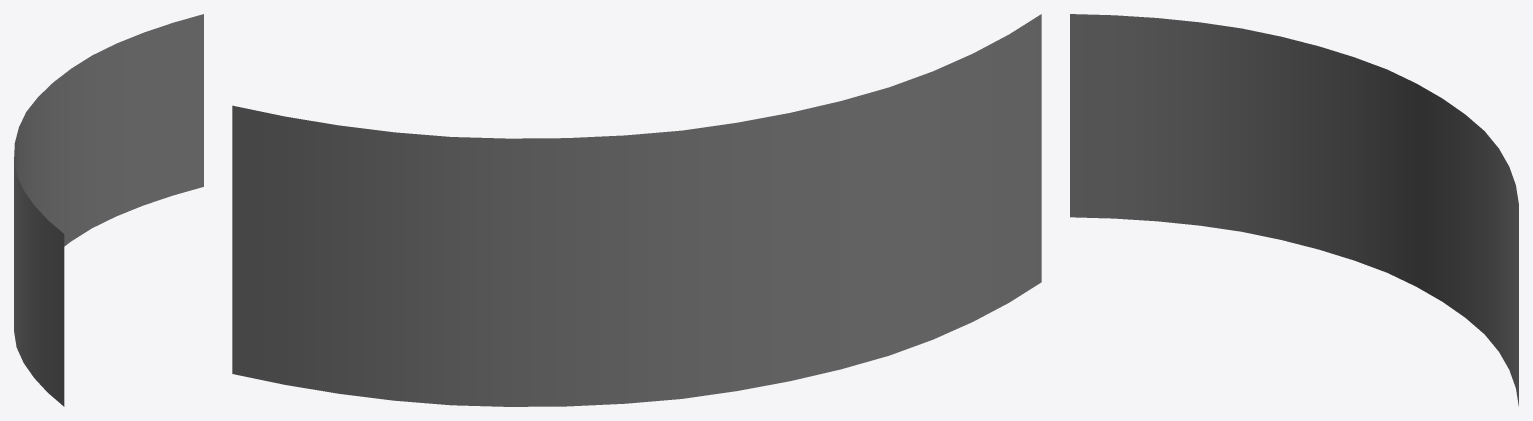
Rendered from q-scifi-mod-topsimple-corner-round-inner.glb.
3 renders of one model, left to right at view 1: azimuth 30°, elevation 25°; view 2: azimuth 150°, elevation 25°; view 3: azimuth 270°, elevation 25°, orthographic. The views are drawn at different scales.
Parts seen in each view (by area): view 1: TopSimple_Corner_Round_Inner; view 2: TopSimple_Corner_Round_Inner; view 3: TopSimple_Corner_Round_Inner.
Boxes of the visible parts, x1=… form: TopSimple_Corner_Round_Inner: x1=14, y1=14, x2=203, y2=406; TopSimple_Corner_Round_Inner: x1=232, y1=14, x2=1041, y2=406; TopSimple_Corner_Round_Inner: x1=1070, y1=14, x2=1518, y2=406.
Bounding box in the file's own units: 4 × 2 × 4.
1 material, 1 textured.
